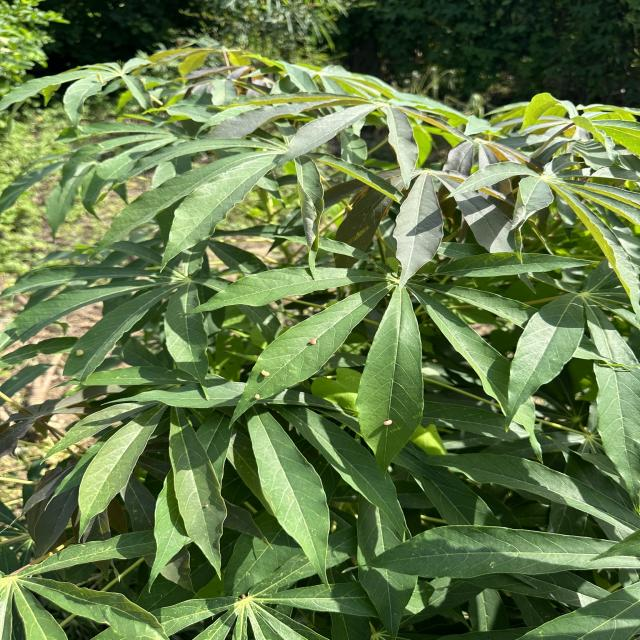Mosca: (377, 413, 396, 434), (248, 391, 267, 410), (70, 344, 89, 363), (256, 364, 276, 381), (199, 496, 212, 513), (306, 333, 320, 347)
